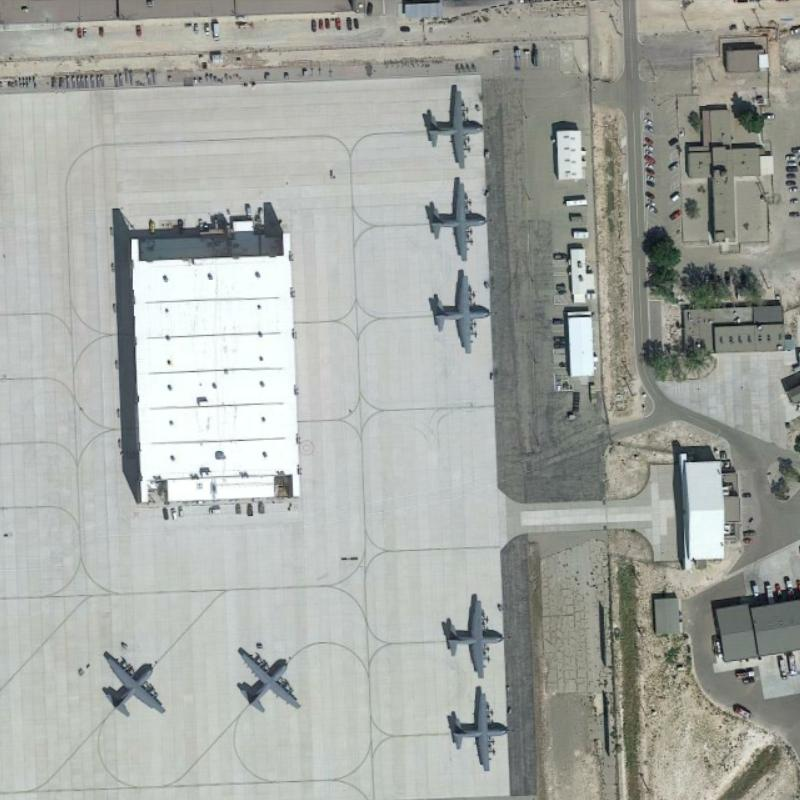A2: (442, 598, 505, 680), (428, 179, 489, 262), (430, 272, 490, 356), (424, 88, 485, 169), (447, 689, 509, 768), (100, 650, 167, 718), (236, 648, 302, 714)
